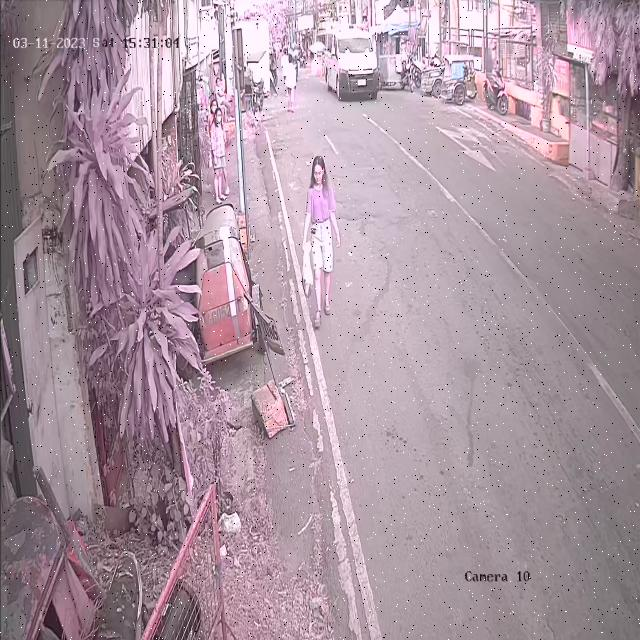human: (301, 156, 341, 330)
trash: (301, 243, 318, 301)
